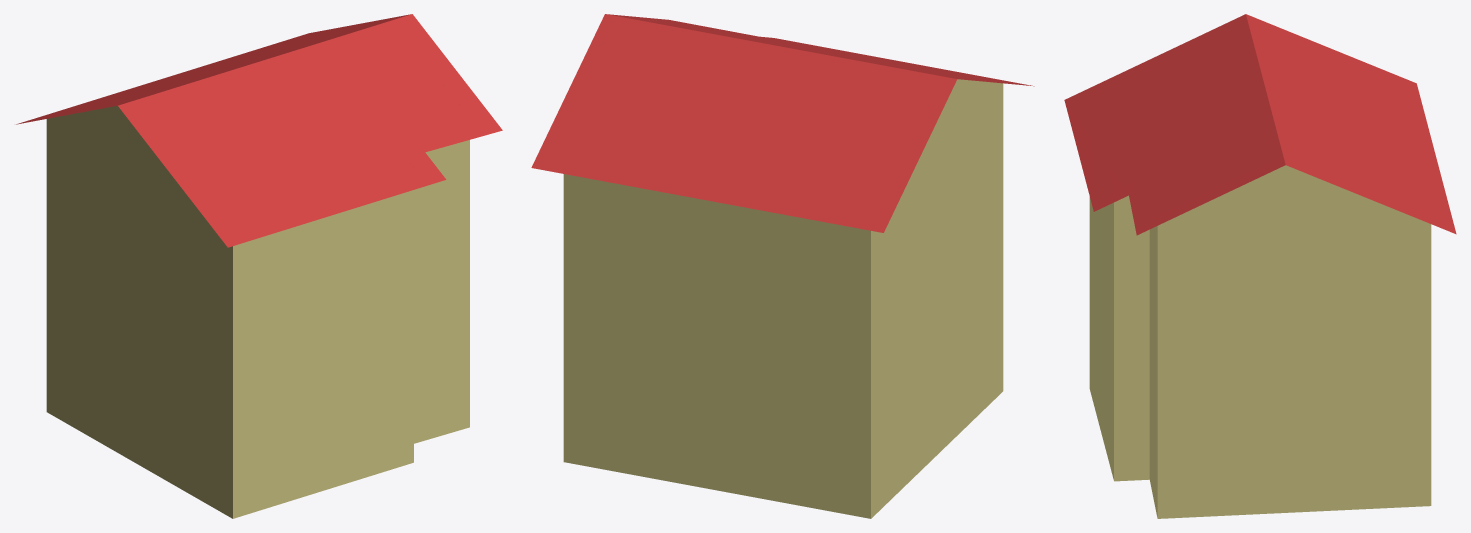
3 views of the same model, side by side, from view 1: azimuth 30°, elevation 25°; view 2: azimuth 150°, elevation 25°; view 3: azimuth 270°, elevation 25° (orthographic). The views are drawn at different scales.
Bounding box in the file's own units: 12.88 × 12.85 × 12.92.
